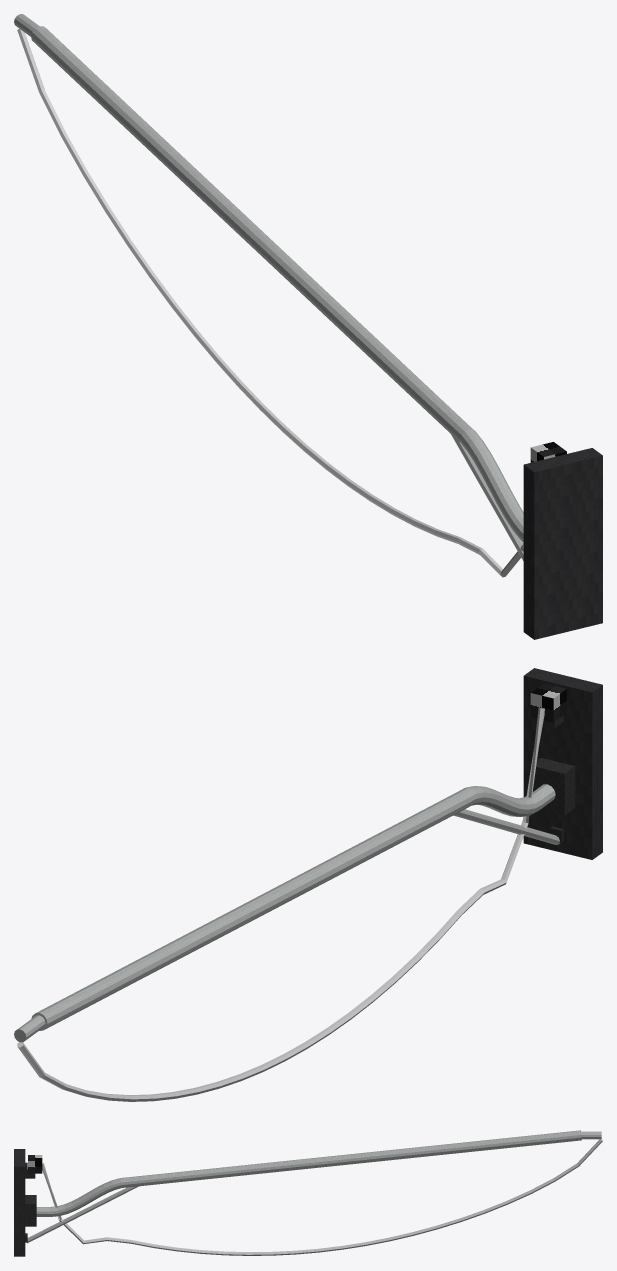
The model's file is arm_5_straight_wired.obj.
3 views of the same model, one above another, from view 1: azimuth 30°, elevation 25°; view 2: azimuth 150°, elevation 25°; view 3: azimuth 270°, elevation 25° (orthographic). The views are drawn at different scales.
Visible parts, largest first — view 1: pole_light_mount_5_straight_wired; view 2: pole_light_mount_5_straight_wired; view 3: pole_light_mount_5_straight_wired.
Part boxes in pixels (x1,y1,x2,y2): pole_light_mount_5_straight_wired: (14,14,602,639); pole_light_mount_5_straight_wired: (14,668,602,1101); pole_light_mount_5_straight_wired: (14,1130,602,1256).
Size of the model in its own units: 0.375 by 1.22 by 5.2.
